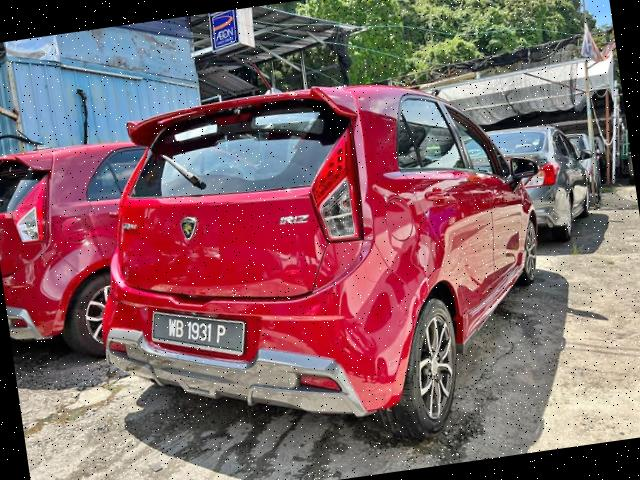License_Plate: (155, 303, 239, 359)
car: (73, 50, 573, 475), (1, 115, 237, 368)
